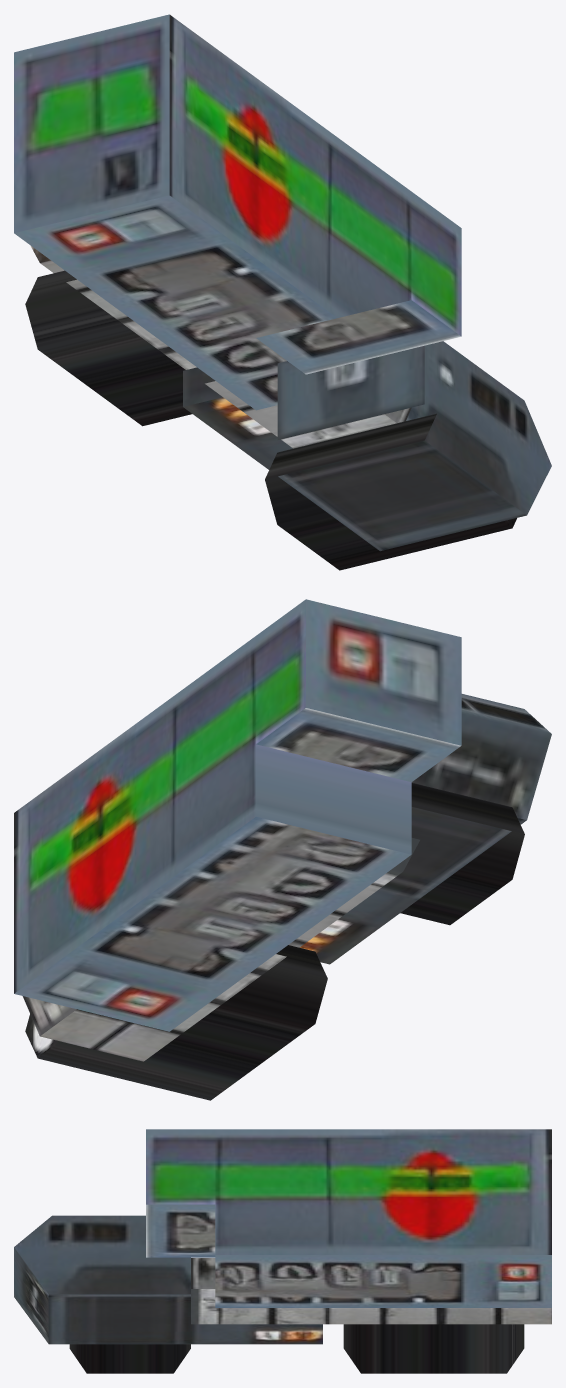
Rendered from cargotruckprop_hdtex.glb.
3 renders of one model, top to bottom at view 1: azimuth 30°, elevation 25°; view 2: azimuth 150°, elevation 25°; view 3: azimuth 270°, elevation 25°, orthographic. The views are drawn at different scales.
Visible parts, largest first — view 1: cargotruck; view 2: cargotruck; view 3: cargotruck.
Part boxes in pixels (<box>): cargotruck: <box>14,14,551,570</box>; cargotruck: <box>14,599,551,1100</box>; cargotruck: <box>14,1129,551,1373</box>.
Size of the model in its own units: 3 by 4.5 by 11.62.
1 material, 1 textured.
